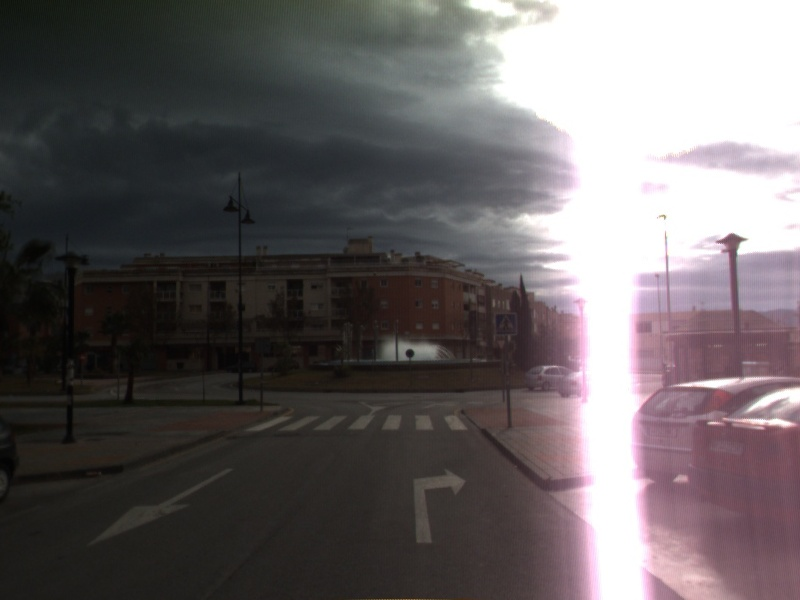RIGHT: (411, 466, 469, 546)
